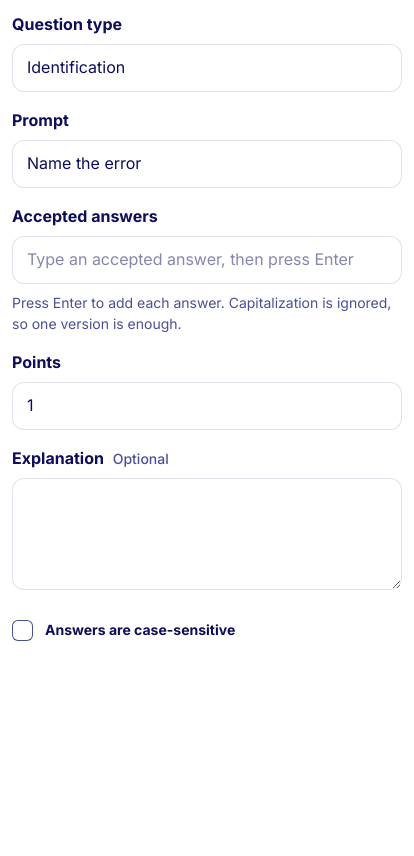
it: QuestionForm identification answers › does not submit the surrounding form when Enter adds a tag
Type "Syntax error" into the field labelled "Accepted answers" at (207, 260), box [27,247,387,273]
Then press Enter
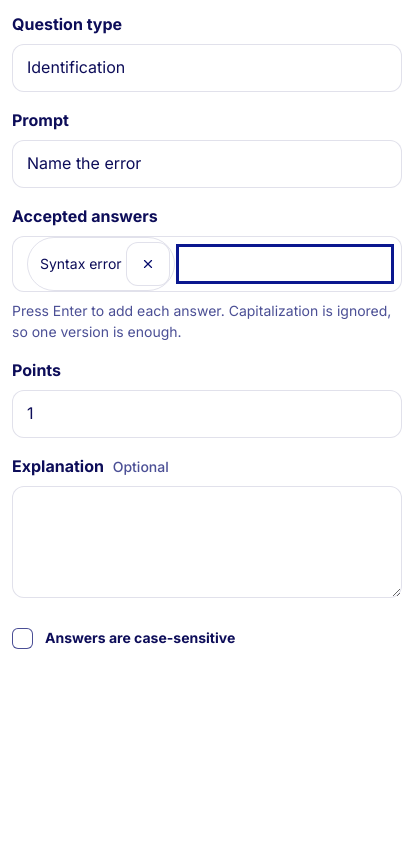
Result: the button named "Remove answer Syntax error" is shown at [126,242,170,286]
